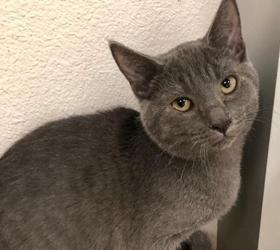rblue: (96, 1, 280, 169)
